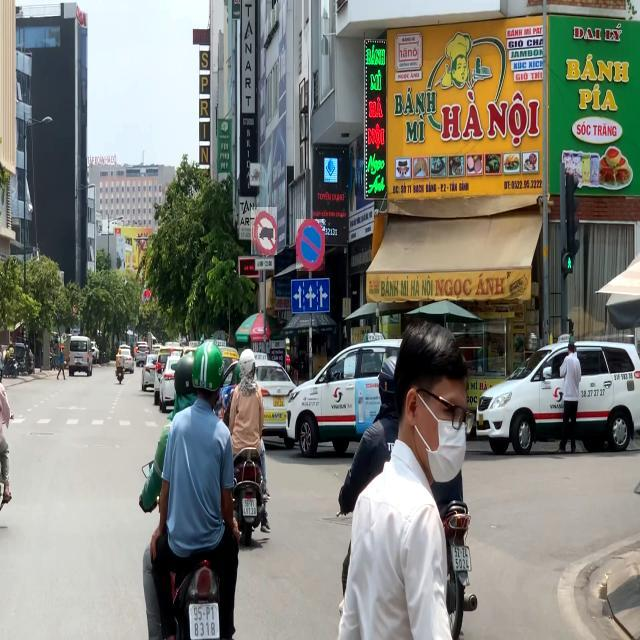P-106a: (251, 207, 277, 255)
P-131a: (296, 219, 325, 271)
